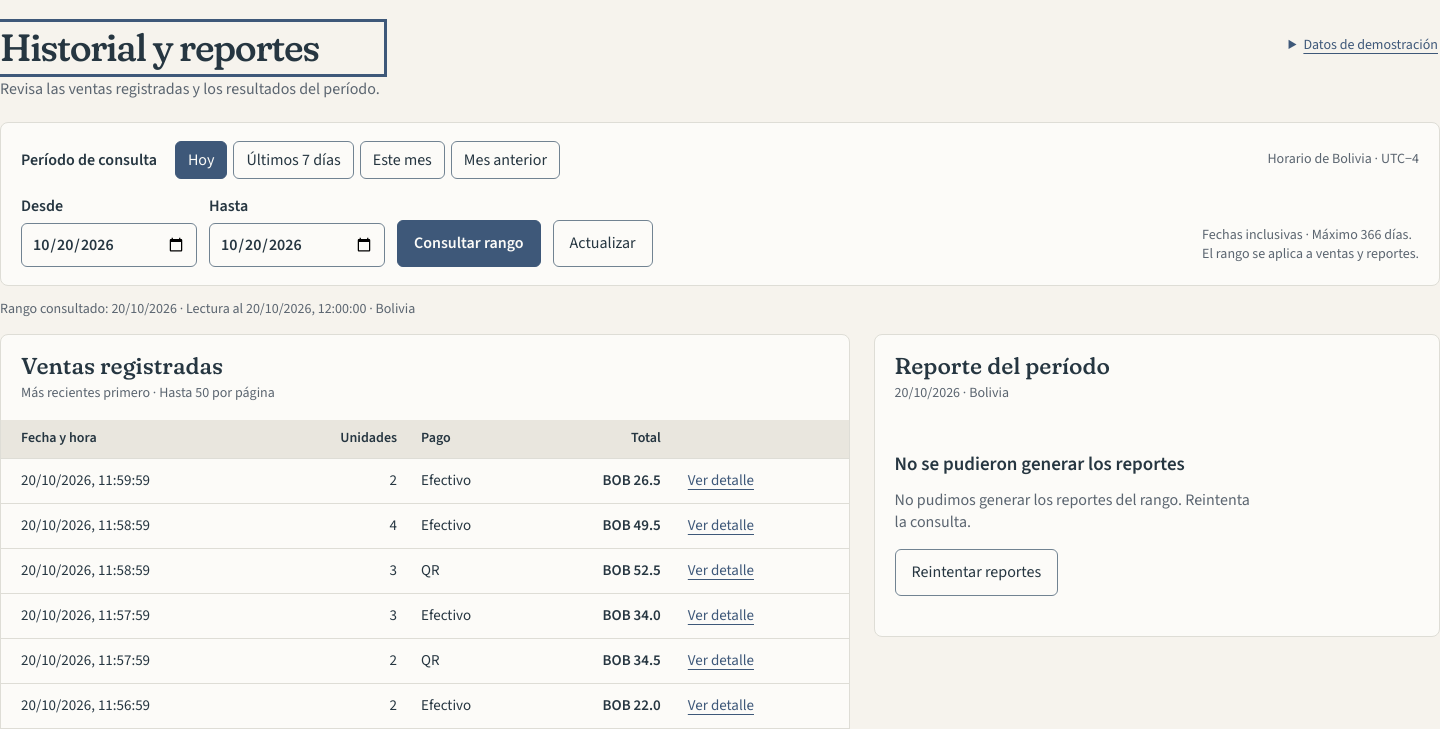
Historial y reportes, interfaz completa › reporte fallido no elimina las ventas ni se presenta como vacío; reintento conjunto
Expected: the message that starts with "No se pudieron generar los reportes" is shown, x1=895 y1=451 x2=1185 y2=478
Click the button "Reintentar reportes": [976, 573] box x1=895 y1=549 x2=1058 y2=596
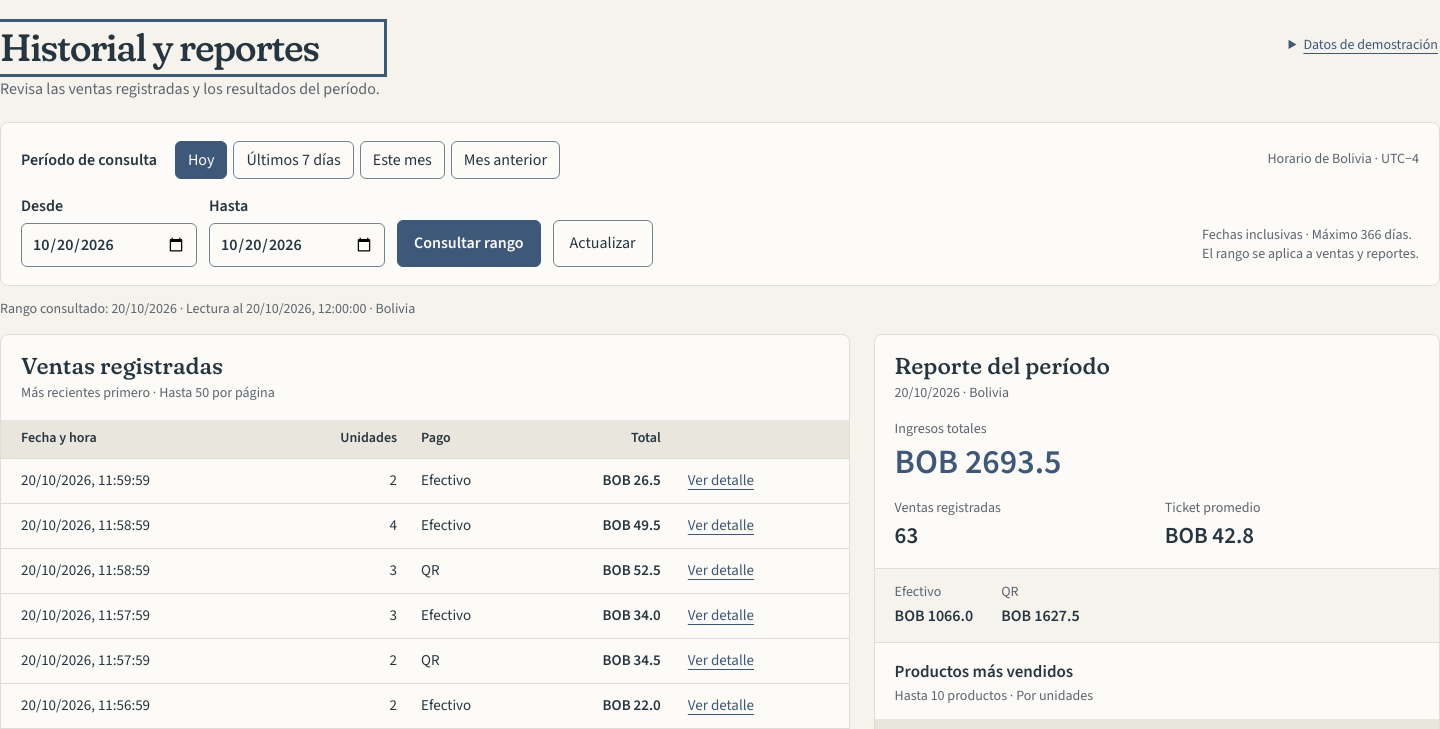
Result: the text "Ticket promedio" is shown at x1=1165 y1=498 x2=1261 y2=518
